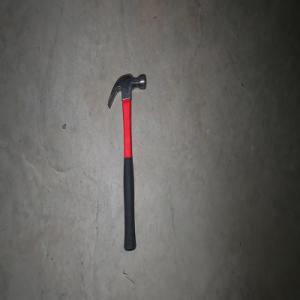Hammer: (106, 71, 146, 251)
